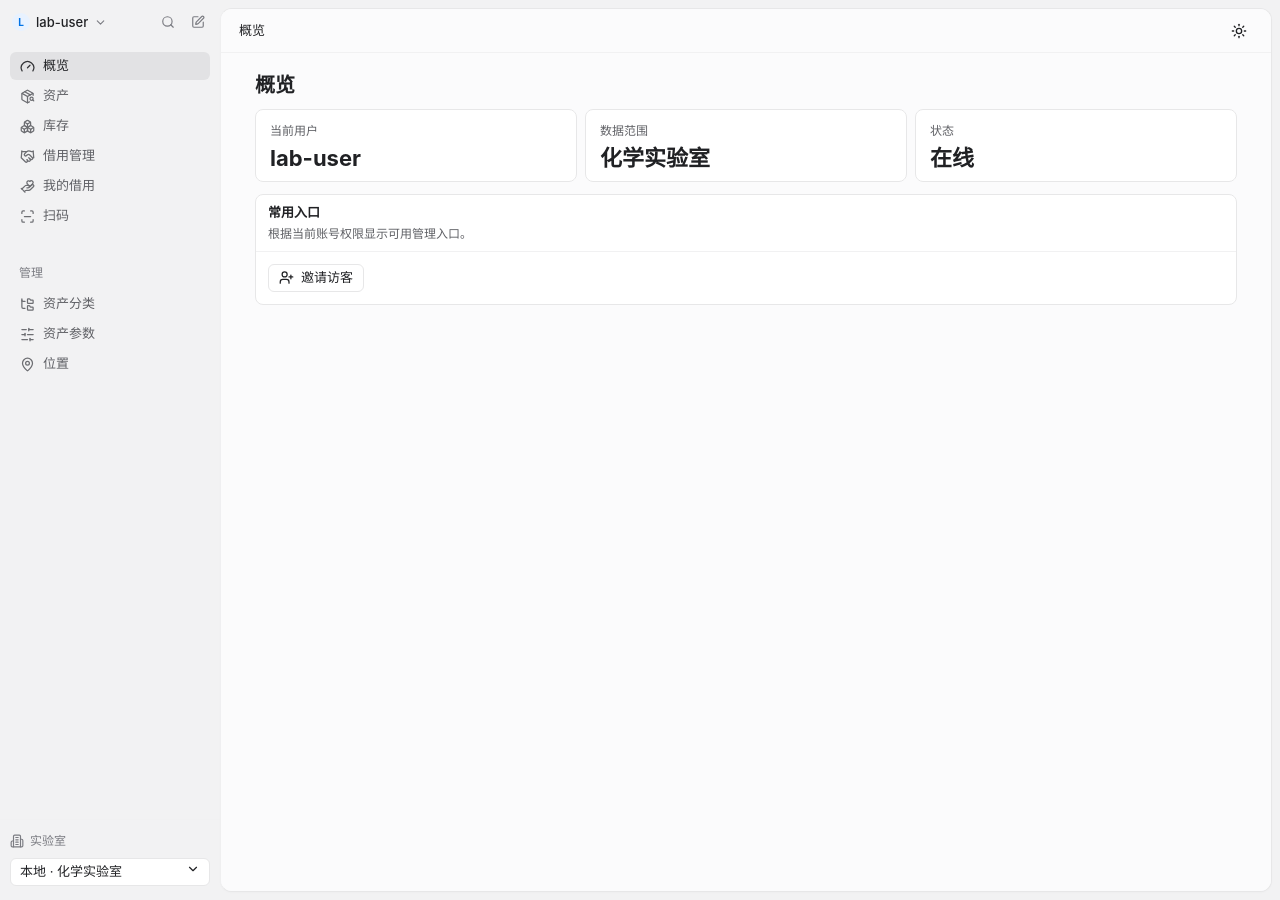
it: guest invitations › hands a laboratory member a code with its expiry
The image size is (1280, 900).
Click the button "邀请访客": (316, 278) [268,264,364,292]
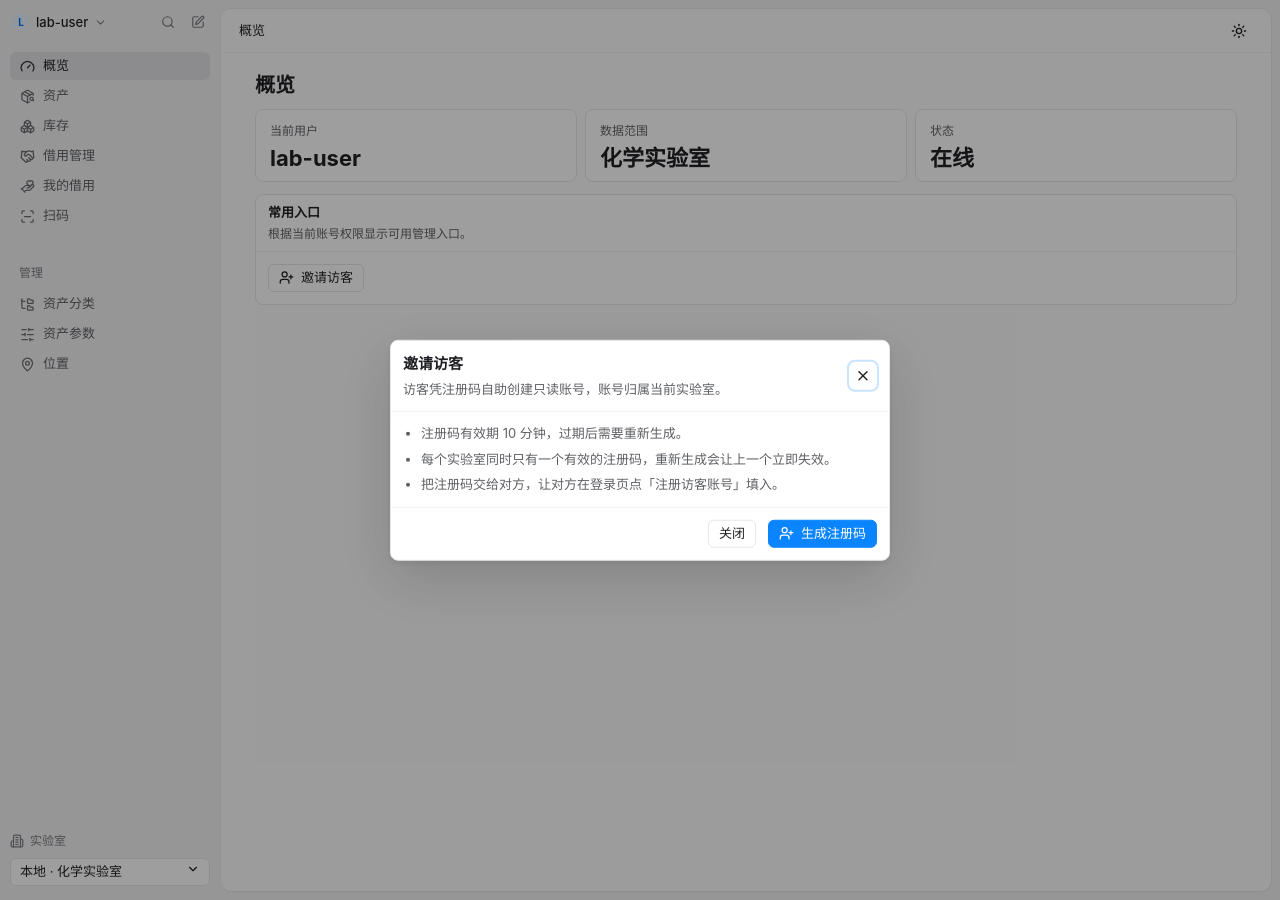
Click the button "生成注册码": (822, 533) [768,519,877,547]
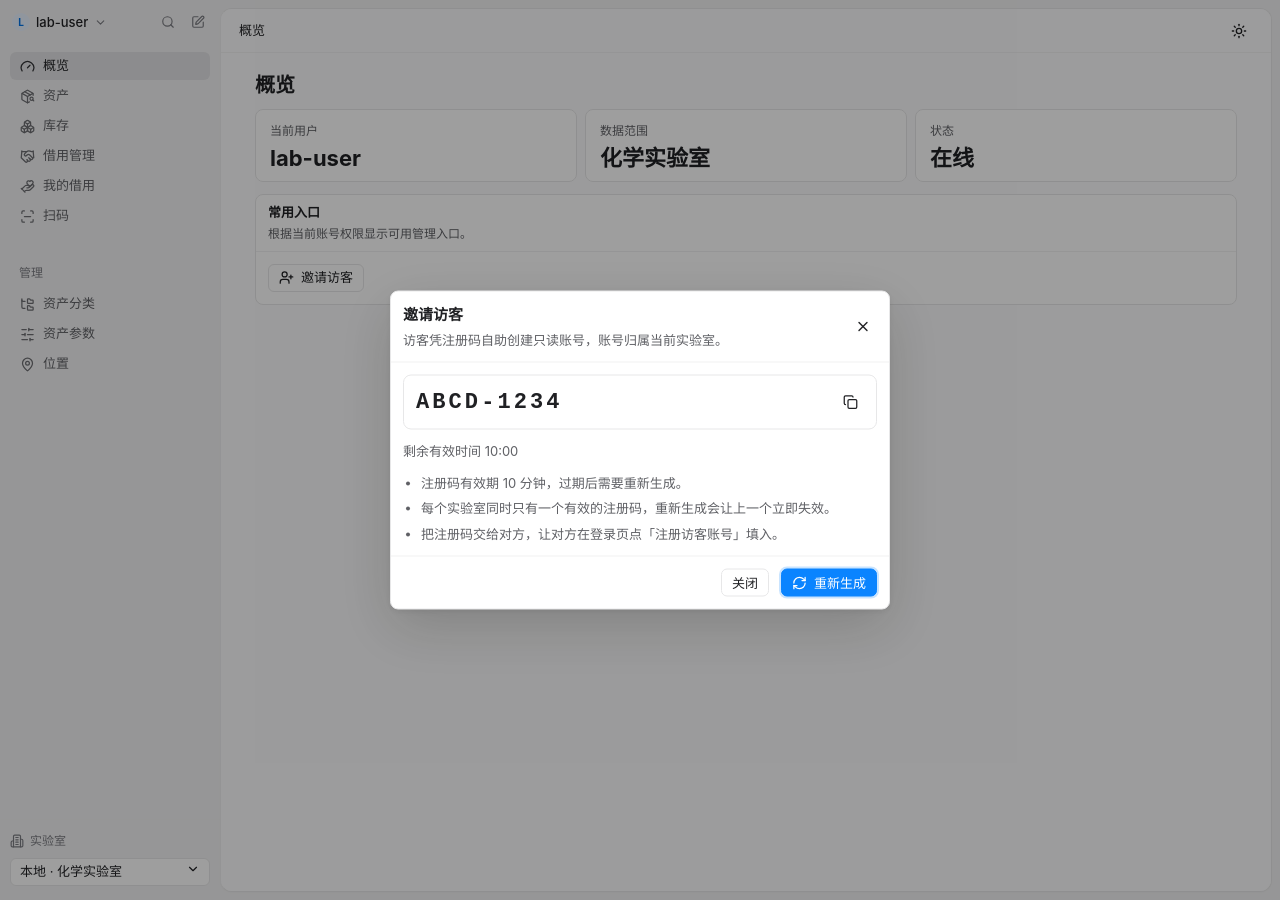
Expected: the text "ABCD-1234" is shown, [416,386,562,418]
Expected: the text "剩余有效时间 10:00" is shown, [403,442,518,458]
Expected: the button "重新生成" is shown, [781,568,877,596]
